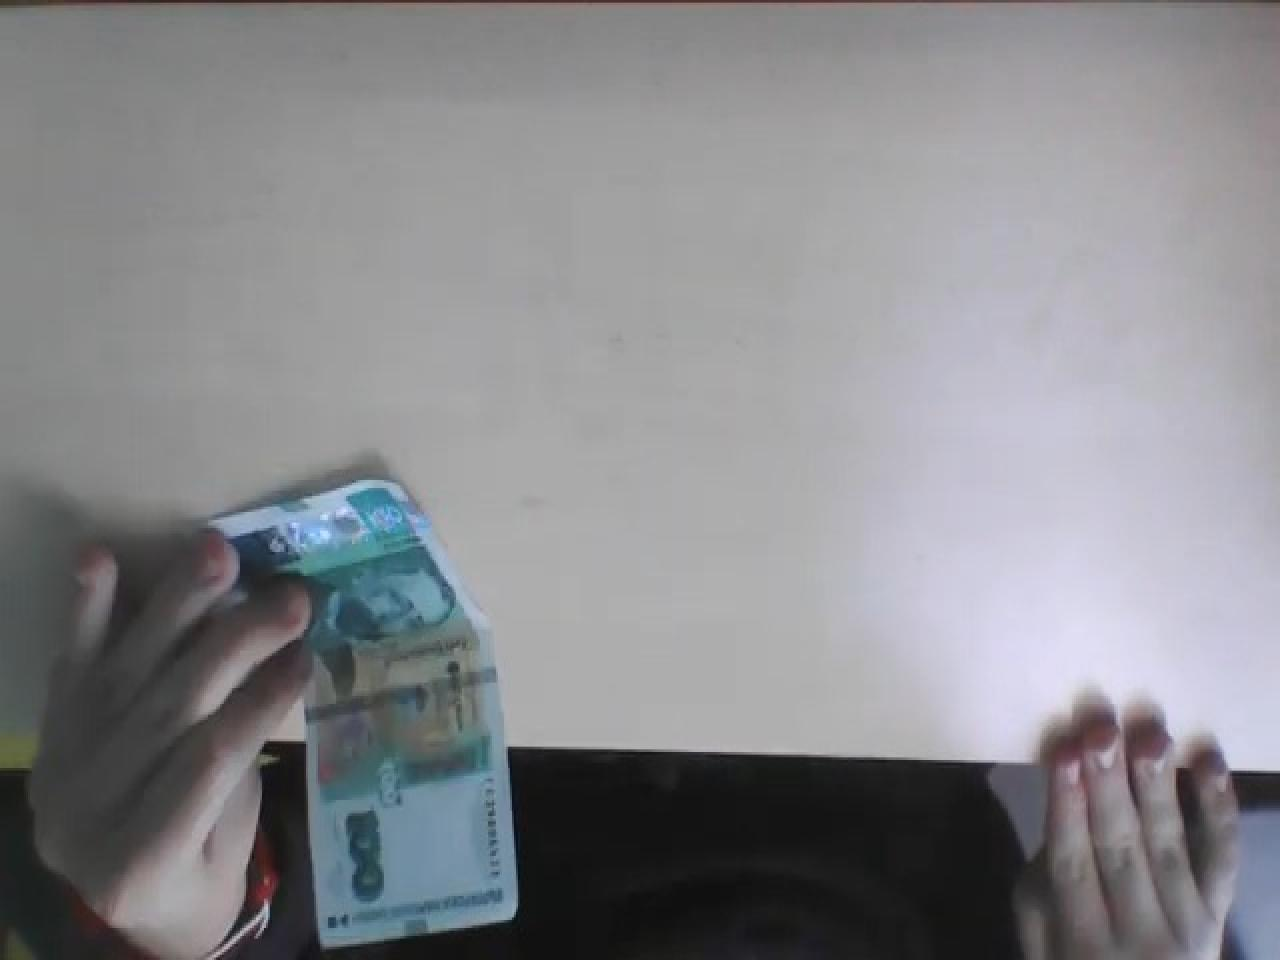100leva: (202, 477, 522, 952)
